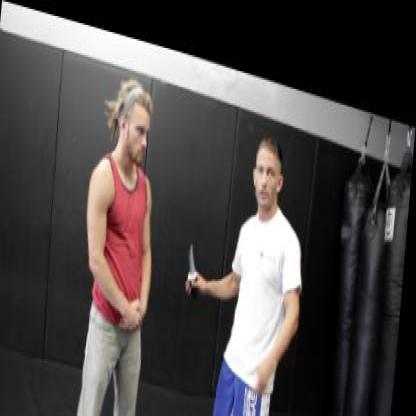knife: (182, 218, 210, 290)
